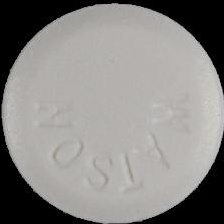63739-501: (0, 0, 224, 224)
